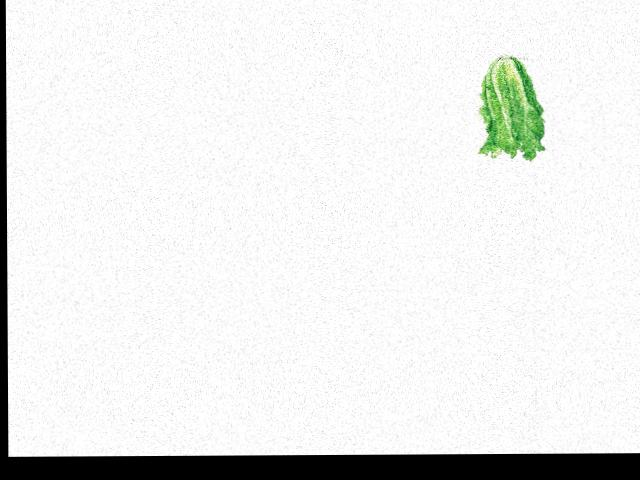lettuce: (475, 57, 545, 161)
